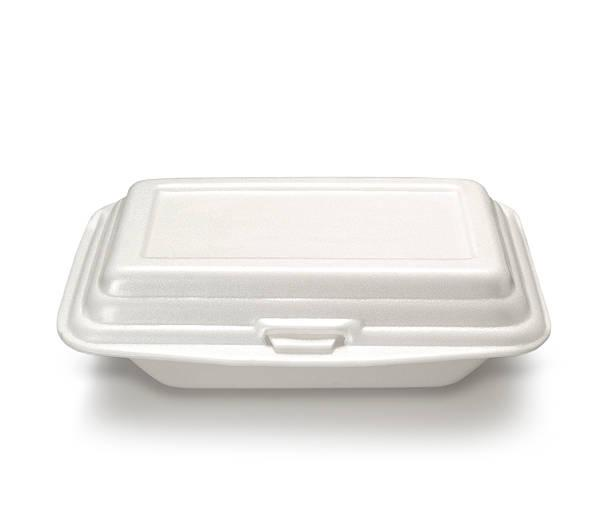PS: (56, 172, 551, 389)
